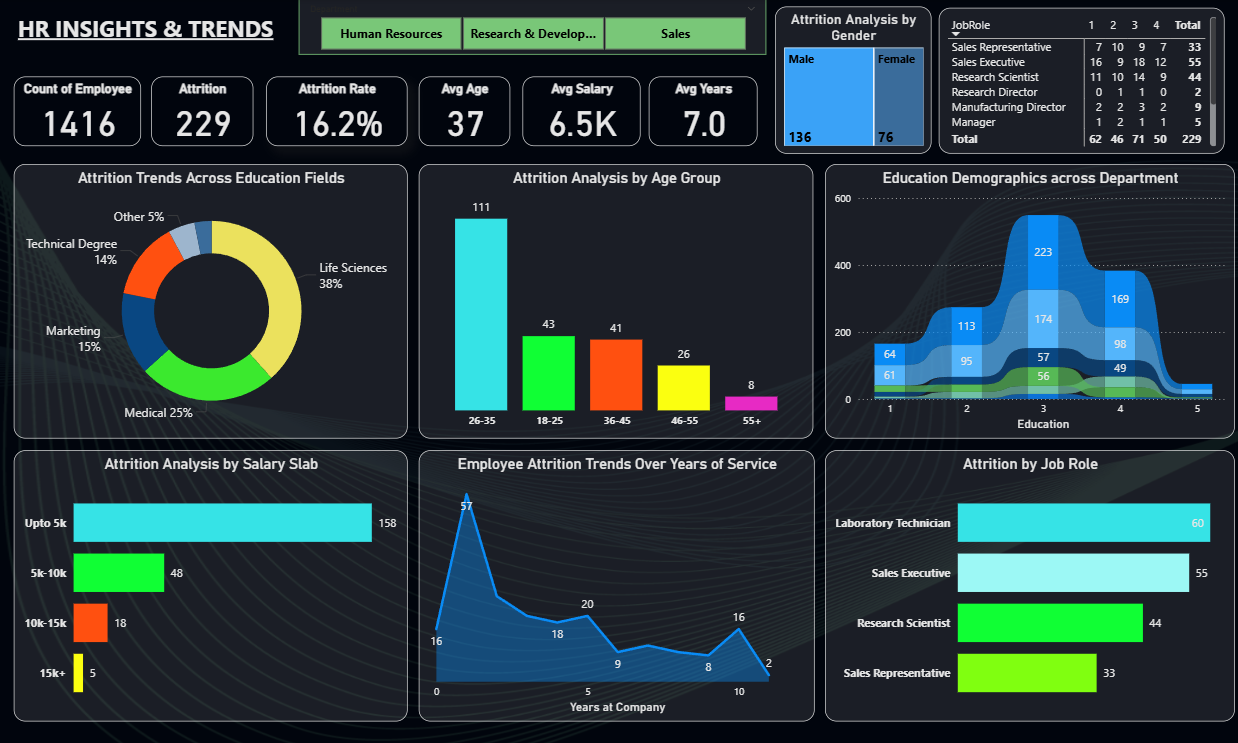

The dashboard page shown, as its layout file describes it:
{"tool":"powerbi","page":{"name":"Page 1","canvas":[1500,900],"ordinal":0},"visuals":[{"type":"card","title":"Count of Employee","fields":{"Values":["CountNonNull(HR_Analytics.EmpID)"]},"box":[16.8,93.6,153.7,83.8],"z":0},{"type":"card","title":"Attrition","fields":{"Values":["Sum(HR_Analytics.AttritionCount)"]},"box":[183,93.6,122.9,83.8],"z":1000},{"type":"card","title":"Attrition Rate","fields":{"Values":["HR_Analytics.AttritionRate"]},"box":[321.3,93.6,170.4,83.8],"z":2000},{"type":"card","title":"Avg Age","fields":{"Values":["Avg(HR_Analytics.Age)"]},"box":[505.7,93.6,110.4,83.8],"z":3000},{"type":"card","title":"Avg Salary","fields":{"Values":["Avg(HR_Analytics.MonthlyIncome)"]},"box":[630,93.6,142.5,83.8],"z":4000},{"type":"card","title":"Avg Years","fields":{"Values":["Avg(HR_Analytics.YearsAtCompany)"]},"box":[782.3,93.6,131.3,83.8],"z":5000},{"type":"pieChart","title":"Attrition Trends Across Education Fields","fields":{"Category":["HR_Analytics.EducationField"],"Y":["Sum(HR_Analytics.AttritionCount)"]},"box":[16.8,199.8,474.9,331.1],"z":6000},{"type":"columnChart","title":"Attrition Analysis by Age Group","fields":{"Category":["HR_Analytics.AgeGroup"],"Y":["Sum(HR_Analytics.AttritionCount)"]},"box":[505.7,199.8,476.3,331.1],"z":7000},{"type":"pivotTable","fields":{"Rows":["HR_Analytics.JobRole"],"Columns":["HR_Analytics.JobSatisfaction"],"Values":["Sum(HR_Analytics.AttritionCount)"]},"box":[1132.9,11.2,345,176],"z":8000},{"type":"barChart","title":"Attrition Analysis by Salary Slab","fields":{"Category":["HR_Analytics.SalarySlab"],"Y":["Sum(HR_Analytics.AttritionCount)"]},"box":[16.8,544.8,474.9,326.9],"z":9000},{"type":"barChart","title":"Attrition by Job Role","fields":{"Category":["HR_Analytics.JobRole"],"Y":["Sum(HR_Analytics.AttritionCount)"]},"box":[994.6,544.8,494.5,326.9],"z":10000},{"type":"areaChart","title":"Employee Attrition Trends Over Years of Service","fields":{"Category":["HR_Analytics.YearsAtCompany"],"Y":["Sum(HR_Analytics.AttritionCount)"]},"box":[505.7,544.8,477.7,326.9],"z":11000},{"type":"treemap","title":"Attrition Analysis by Gender","fields":{"Group":["HR_Analytics.Gender"],"Values":["Sum(HR_Analytics.AttritionCount)"]},"box":[934.5,9.8,188.6,177.4],"z":12000},{"type":"slicer","fields":{"Values":["HR_Analytics.Department"]},"box":[360.4,0,564.4,67.1],"z":13000},{"type":"textbox","box":[16.6,11.8,334,55.7],"z":14000},{"type":"ribbonChart","title":"Education Demographics across Department ","fields":{"Y":["CountNonNull(HR_Analytics.Department)"],"Category":["HR_Analytics.Education"],"Series":["HR_Analytics.EducationField"]},"box":[994.6,199.8,494.5,331.1],"z":15000}]}

Visuals, with their boxes in screenshot pixels (x1, y1, x2, y2), scaled from the page's 1500x900 canvas onto the 1238x743 screenshot:
"Count of Employee" card: (14, 77, 141, 146)
"Attrition" card: (151, 77, 252, 146)
"Attrition Rate" card: (265, 77, 406, 146)
"Avg Age" card: (417, 77, 508, 146)
"Avg Salary" card: (520, 77, 638, 146)
"Avg Years" card: (646, 77, 754, 146)
"Attrition Trends Across Education Fields" pieChart: (14, 165, 406, 438)
"Attrition Analysis by Age Group" columnChart: (417, 165, 810, 438)
pivotTable - HR_Analytics.JobRole x HR_Analytics.JobSatisfaction: (935, 9, 1220, 155)
"Attrition Analysis by Salary Slab" barChart: (14, 450, 406, 720)
"Attrition by Job Role" barChart: (821, 450, 1229, 720)
"Employee Attrition Trends Over Years of Service" areaChart: (417, 450, 812, 720)
"Attrition Analysis by Gender" treemap: (771, 8, 927, 155)
slicer - HR_Analytics.Department: (297, 0, 763, 55)
textbox: (14, 10, 289, 56)
"Education Demographics across Department " ribbonChart: (821, 165, 1229, 438)
